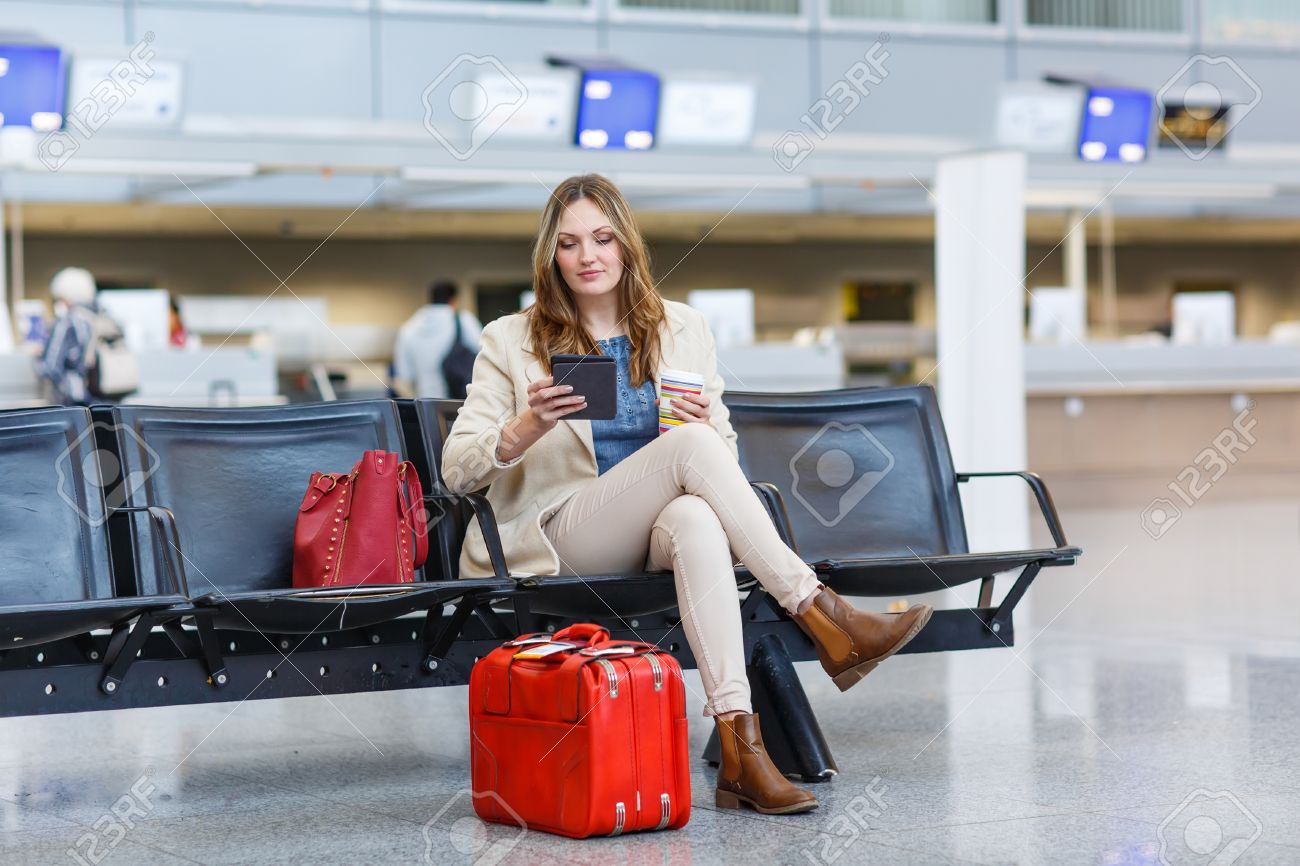bag: (286, 450, 442, 605)
luggage: (454, 617, 708, 844)
people: (438, 163, 940, 824)
